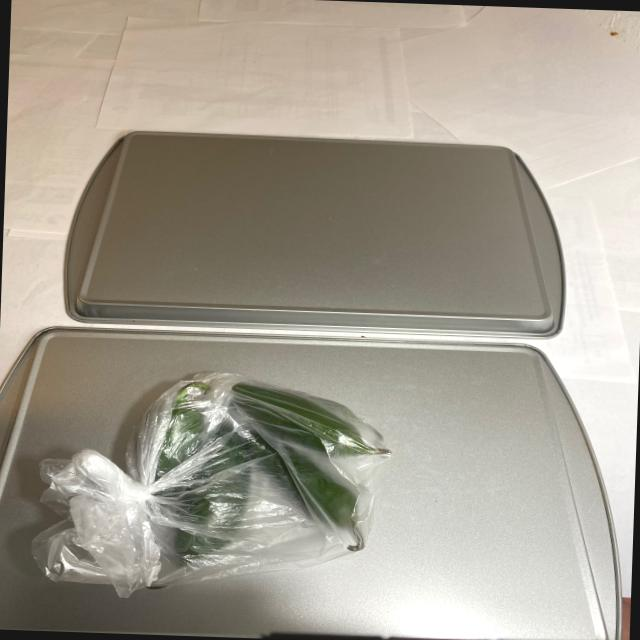chilli: (118, 370, 390, 600)
